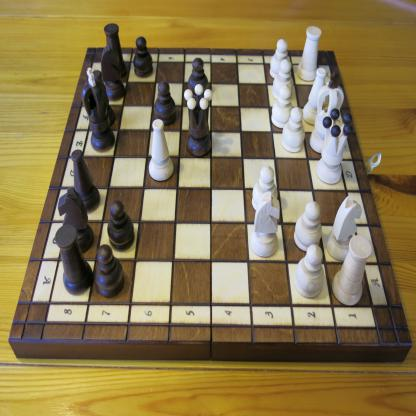black-bishop: (70, 148, 101, 214), (91, 70, 116, 129)
black-king: (80, 67, 116, 153)
black-knight: (57, 188, 94, 256), (100, 44, 126, 102)
black-pawn: (93, 242, 125, 299), (107, 198, 136, 252), (153, 80, 176, 126), (187, 56, 209, 103), (133, 36, 154, 79)
black-queen: (183, 83, 213, 158)
black-rook: (55, 223, 94, 295), (104, 22, 128, 80)
white-bishop: (147, 118, 175, 183), (302, 67, 326, 126)
white-king: (309, 69, 345, 155)
white-knight: (326, 195, 362, 263), (249, 191, 281, 258)
white-pawn: (294, 243, 325, 299), (293, 199, 322, 252), (251, 164, 278, 212), (281, 106, 306, 153), (271, 83, 294, 130), (271, 59, 294, 102), (269, 39, 290, 80)
white-queen: (315, 108, 353, 185)
white-rook: (331, 234, 372, 306), (297, 25, 322, 81)
